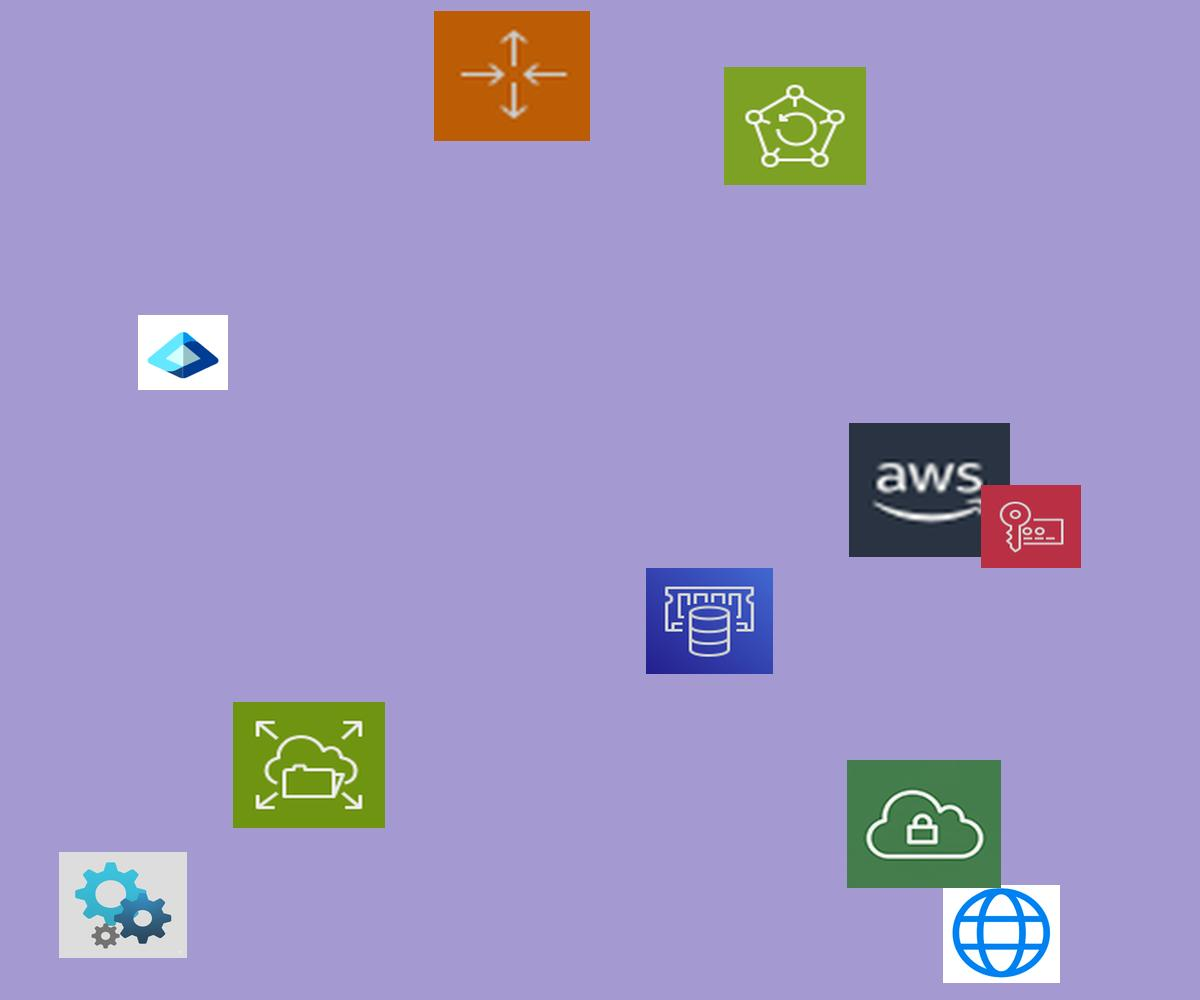AWS-Backup: (724, 67, 866, 185)
AWS-Cloud-logo: (849, 423, 1010, 557)
AWS-EFS: (233, 702, 385, 828)
AWS-ElastiCache: (646, 568, 773, 674)
AWS-Key-Management-Service: (981, 485, 1081, 568)
AWS-Private_vpc: (847, 760, 1001, 888)
AWS-Scaling-group: (434, 11, 590, 141)
Azure_api: (59, 852, 187, 958)
Azure_http: (943, 885, 1060, 983)
Azure_microsoft_entra: (138, 315, 228, 390)
